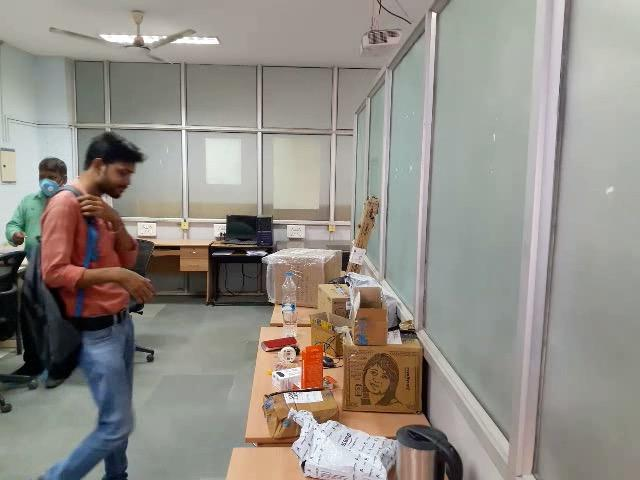Normal: (2, 121, 177, 480)
